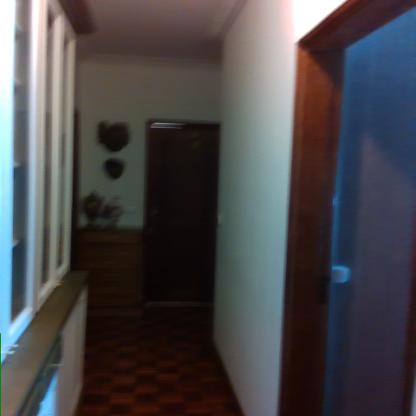closed: (140, 111, 230, 313)
open: (277, 1, 415, 415)
